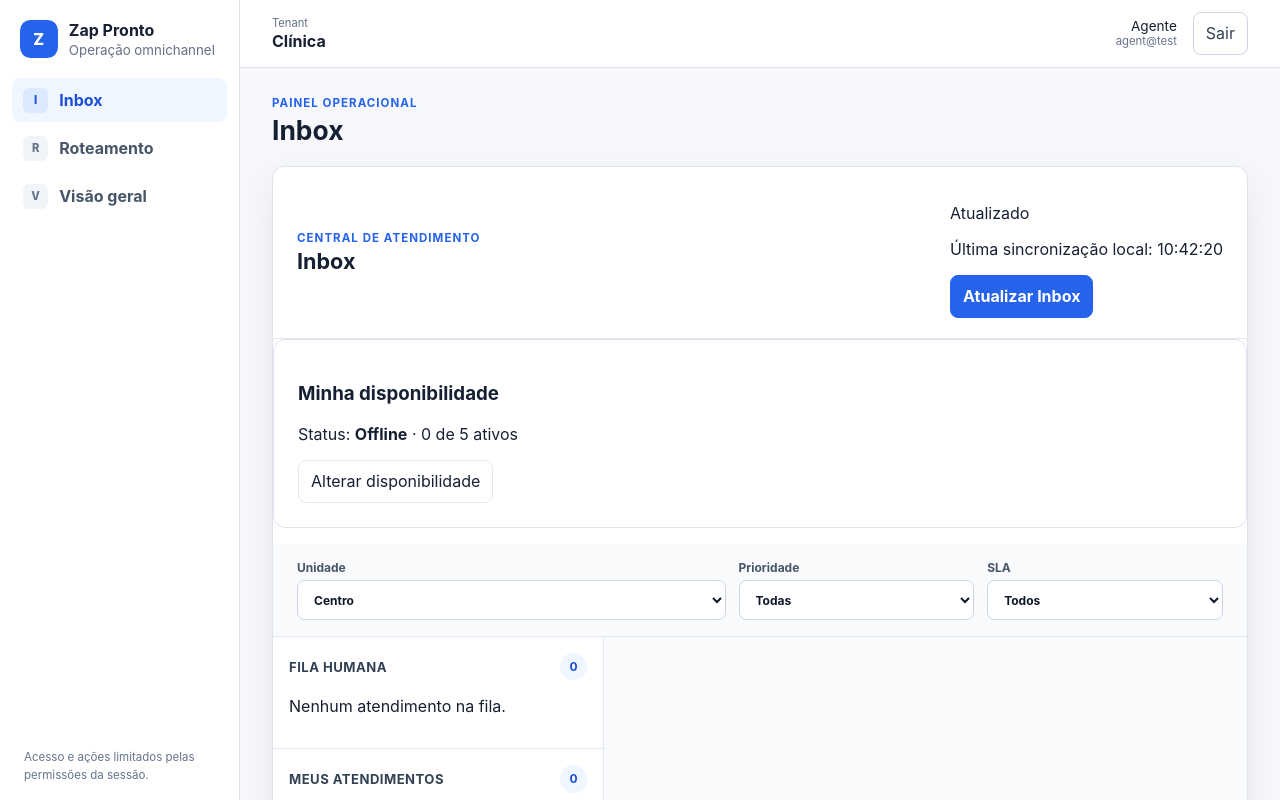
authenticated shell › mounts only the highest-priority authorized module and starts inactive clients only after navigation
The width and height of the screenshot is (1280, 800).
expect the heading "Inbox" is shown: met, box [297,248,356,274]
Click the button "R Roteamento": (120,148) [12,126,227,170]
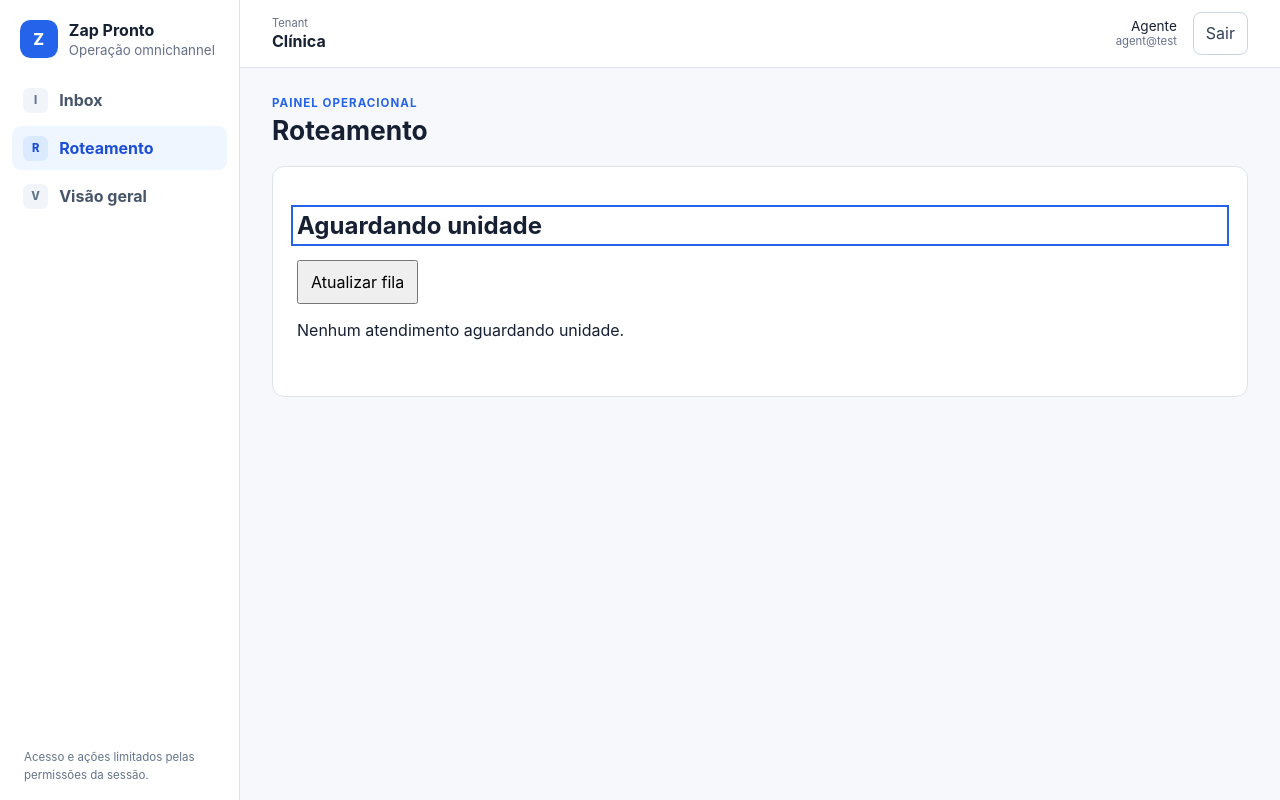
expect the heading "Aguardando unidade" is shown: met, box [297,211,542,240]
